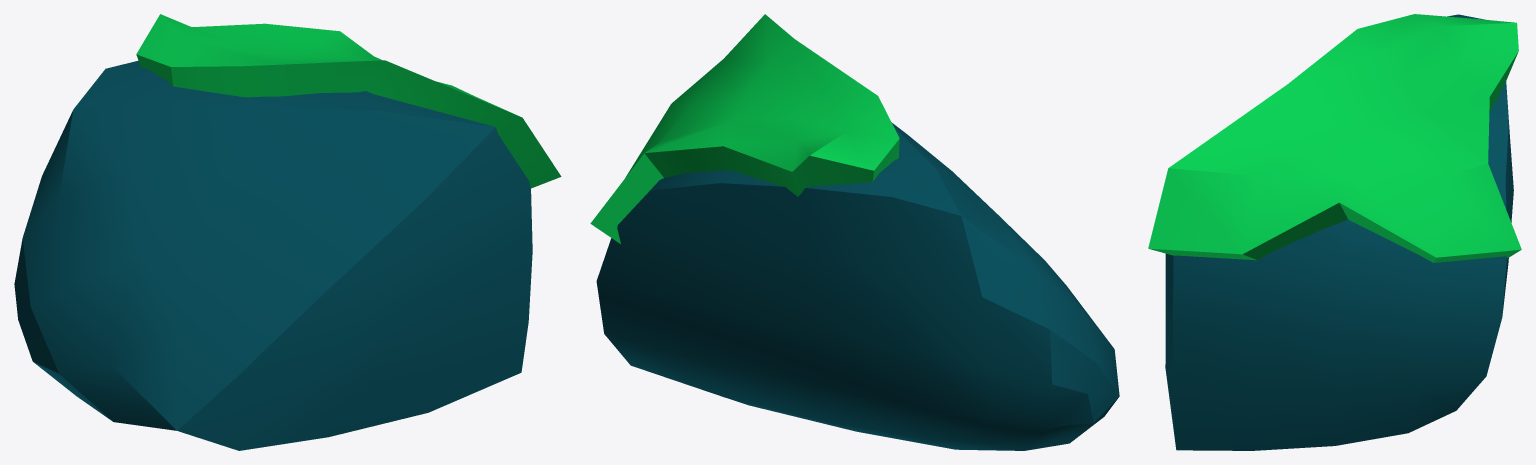
The model's file is Rock_C_01.fbx.
3 renders of one model, left to right at view 1: azimuth 30°, elevation 25°; view 2: azimuth 150°, elevation 25°; view 3: azimuth 270°, elevation 25°, orthographic. The views are drawn at different scales.
Parts seen in each view (by area): view 1: Rock_C_01; view 2: Rock_C_01; view 3: Rock_C_01.
Part boxes in pixels (box(x1,y1,x2,y2)): Rock_C_01: box(14, 14, 561, 450); Rock_C_01: box(590, 14, 1119, 450); Rock_C_01: box(1148, 14, 1521, 450).
Size of the model in its own units: 167 by 117 by 116.
